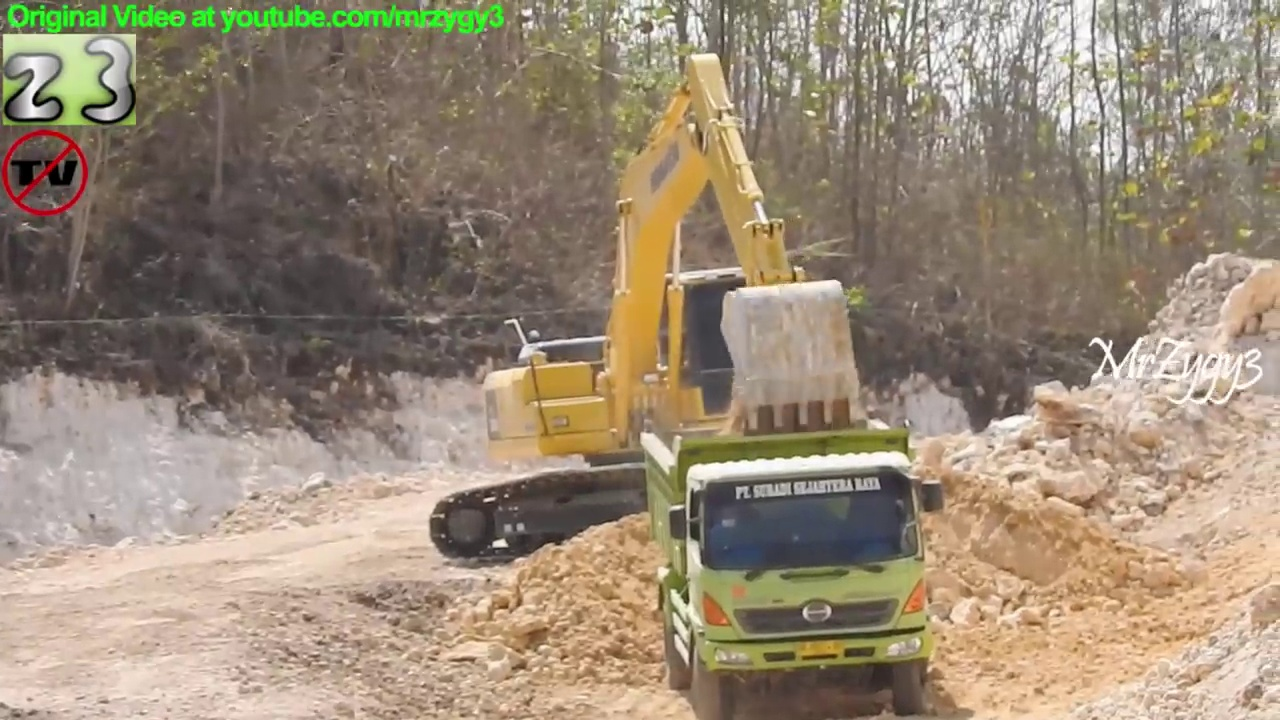excavator: (423, 47, 912, 571)
truck: (640, 410, 953, 720)
